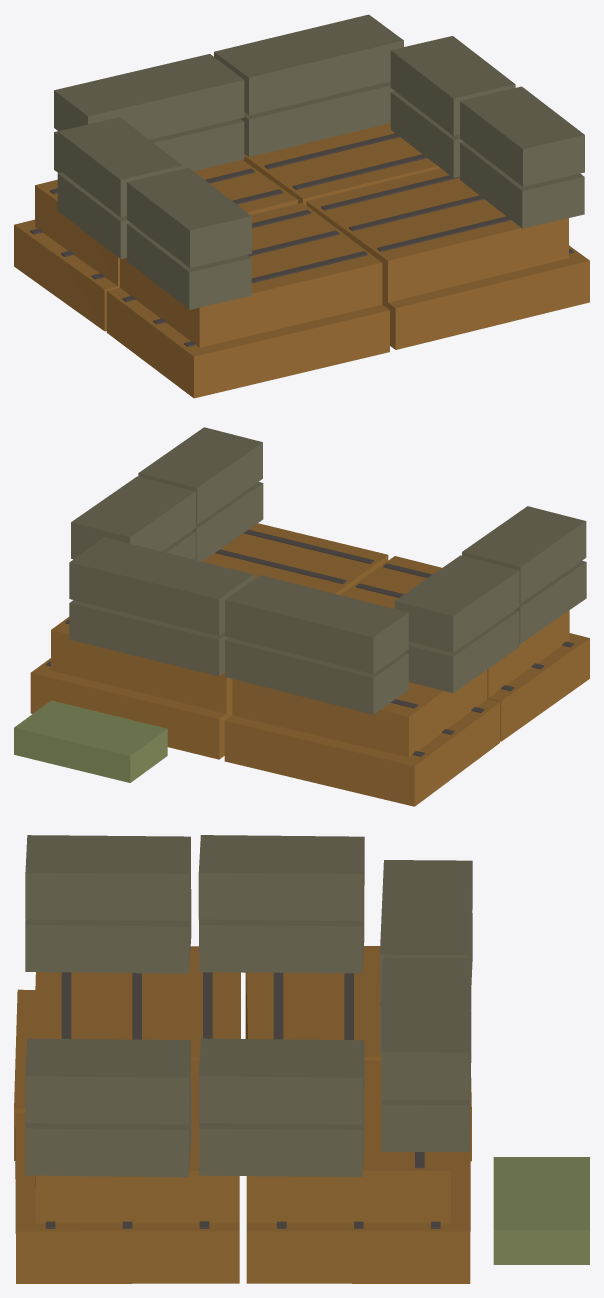
File: SM_Nido_v0_LOD0.fbx
3 renders of one model, top to bottom at view 1: azimuth 30°, elevation 25°; view 2: azimuth 150°, elevation 25°; view 3: azimuth 270°, elevation 25°, orthographic. The views are drawn at different scales.
Parts seen in each view (by area): view 1: SM_banqueta_tiro_v5_LOD0; view 2: SM_banqueta_tiro_v5_LOD0; view 3: SM_banqueta_tiro_v5_LOD0.
Part boxes in pixels (x1,y1,x2,y2): SM_banqueta_tiro_v5_LOD0: (14, 14, 589, 398); SM_banqueta_tiro_v5_LOD0: (14, 427, 589, 806); SM_banqueta_tiro_v5_LOD0: (14, 835, 589, 1283).
Size of the model in its own units: 2.98 by 1.18 by 2.99.
